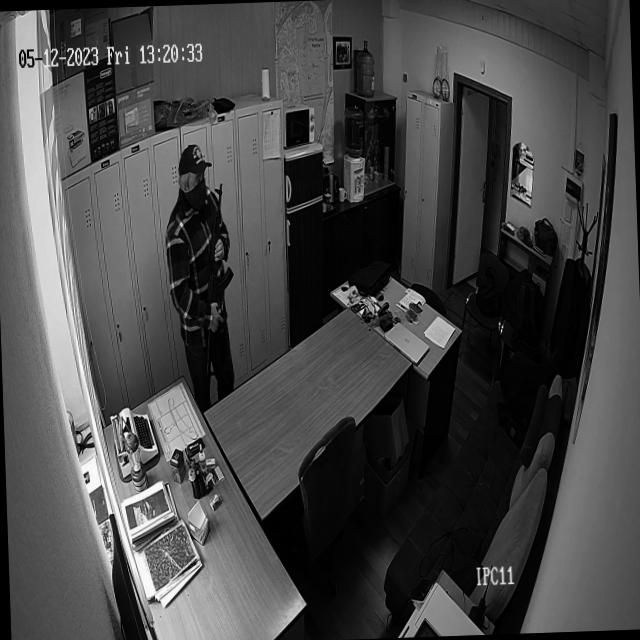gun: (195, 180, 236, 374)
person with a gun: (160, 138, 238, 382)
